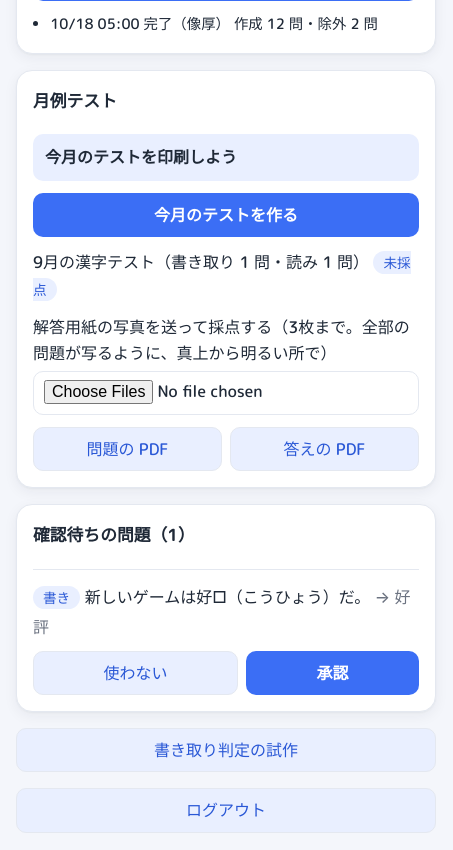
保護者のホーム › [LVL-04] 確認待ちの問題を子どもに見える形と答えで出し、承認できる
(page scrolled)
Expected: the text "好□（こうひょう）" is shown, top-left (196, 586), bottom-right (339, 608)
Expected: the text "→ 好評" is shown, top-left (33, 586), bottom-right (410, 638)
Click the button "承認". click: (332, 673)
box: top-left (246, 651), bottom-right (419, 695)
(page scrolled)
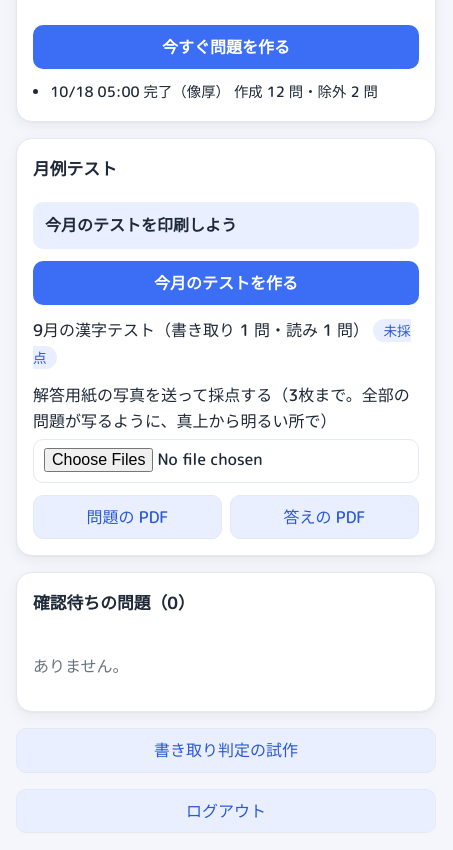
Expected: the text "ありません。" is shown, top-left (33, 655), bottom-right (128, 677)
